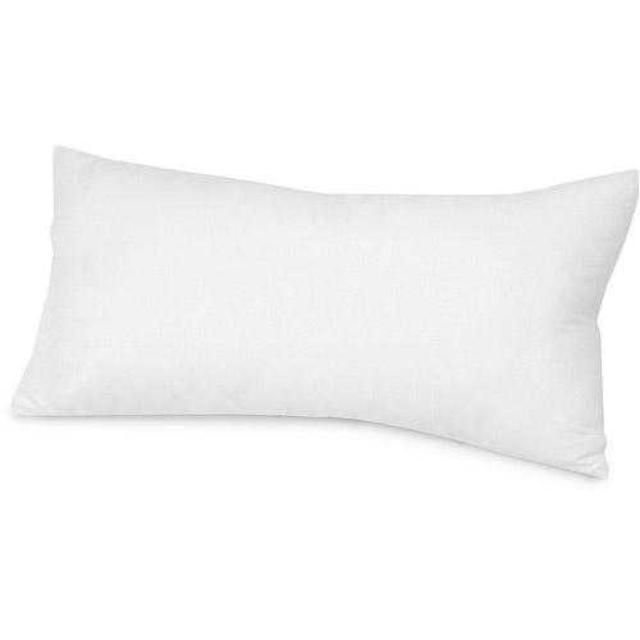pillow: (9, 142, 638, 480)
